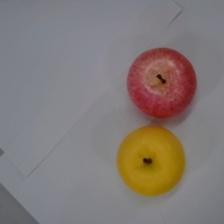red: (126, 46, 197, 119)
yellow: (116, 125, 184, 196)
